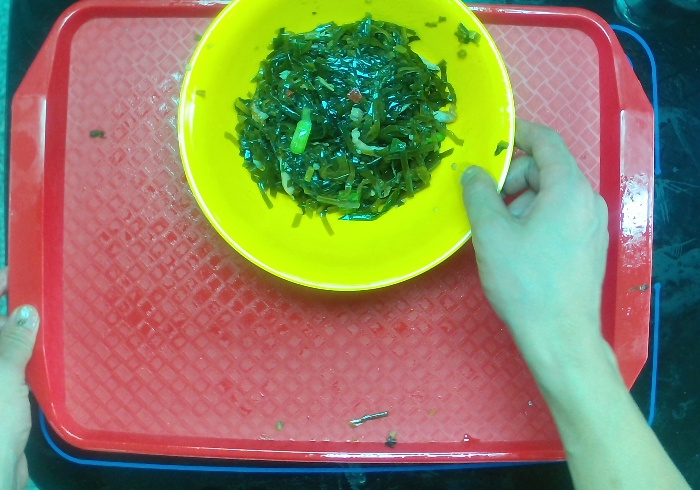YKMZ-Huang_Se_Tang_Wan: (172, 1, 521, 298)
